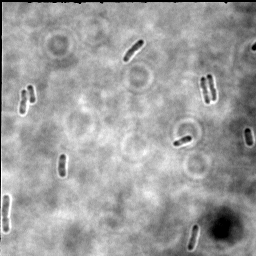Dividing: (121, 38, 146, 65), (204, 72, 220, 103), (185, 223, 201, 253), (1, 194, 12, 235), (199, 76, 213, 106), (17, 88, 29, 117)
Rod: (56, 152, 69, 180), (172, 134, 194, 149), (26, 83, 38, 105), (242, 127, 254, 148)
